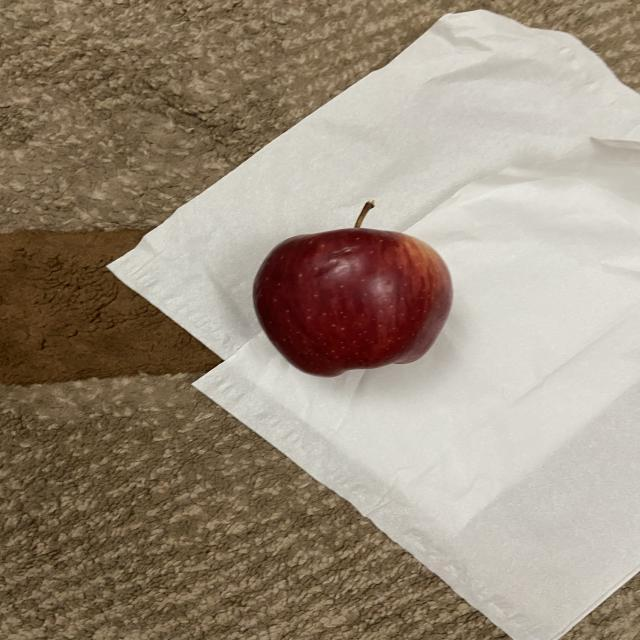apple: (250, 198, 460, 380)
